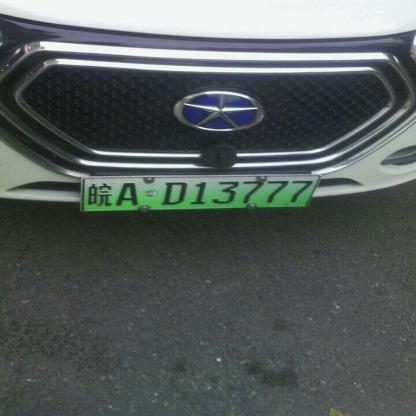lp: (84, 176, 319, 209)
